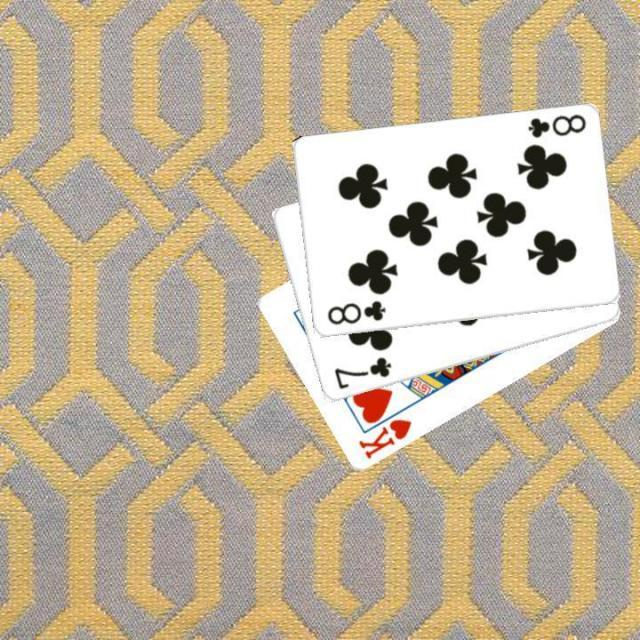7C: (330, 353, 393, 392)
8C: (323, 297, 388, 327), (524, 111, 588, 141)
KH: (354, 415, 414, 461)
